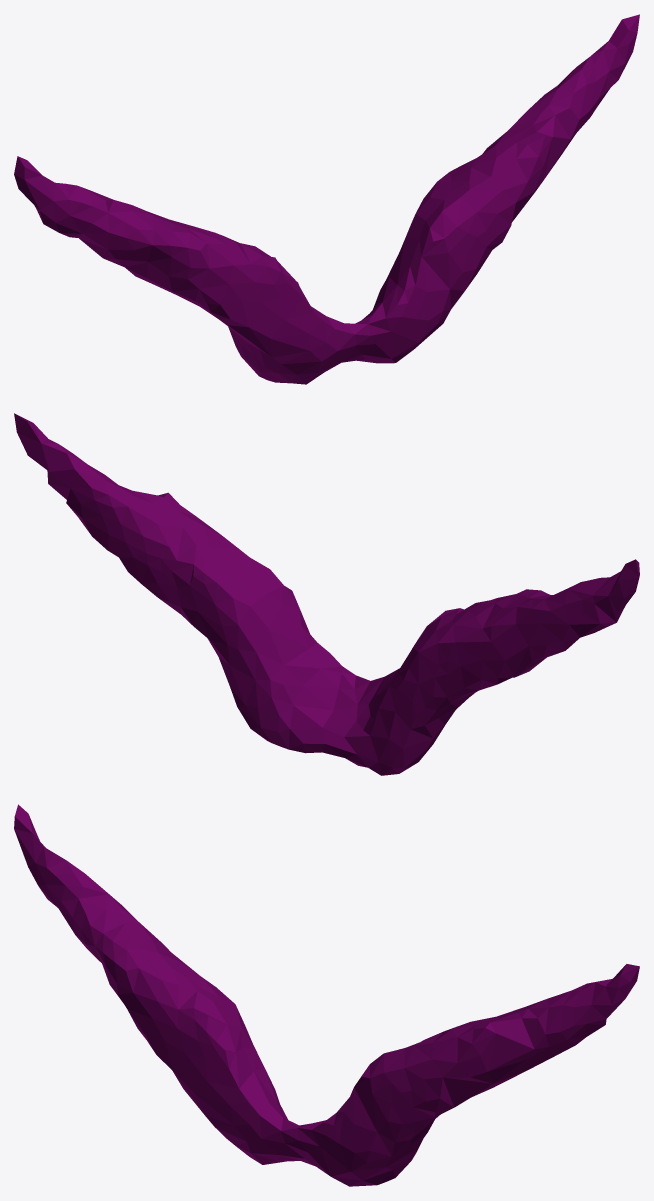
The model's file is 111-10V-area 10 of cortex, ventral part-('0.4980', '0.0000', '0.4392').obj.
The picture shows the model from 3 angles, top to bottom: view 1: azimuth 30°, elevation 25°; view 2: azimuth 150°, elevation 25°; view 3: azimuth 330°, elevation 25°; orthographic projection.
Size of the model in its own units: 144 by 61.95 by 16.51.
